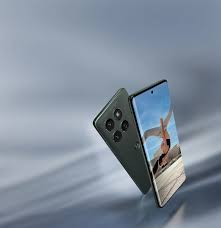phone: (82, 79, 196, 210)
